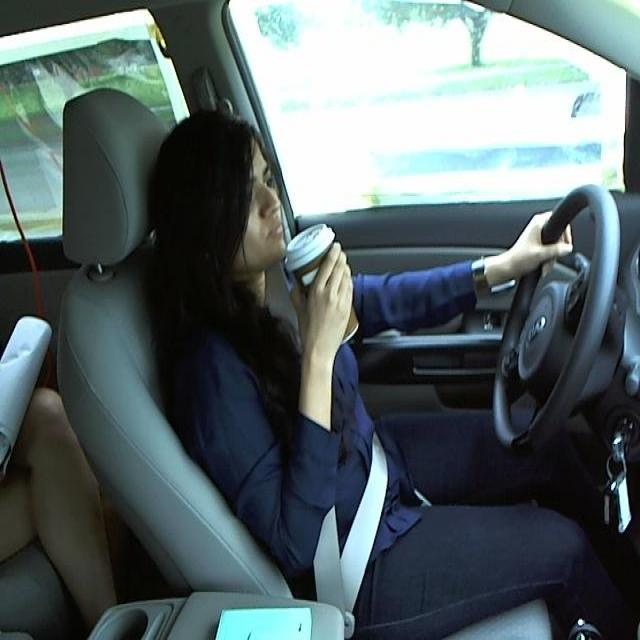drinking: (283, 222, 361, 346)
